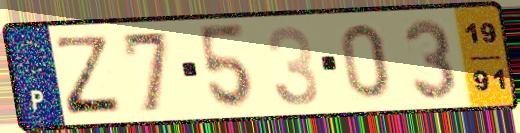0: (337, 21, 397, 104)
3: (401, 15, 460, 104), (265, 23, 321, 108)
5: (194, 21, 257, 115)
7: (119, 30, 175, 115)
Z: (52, 34, 125, 117)
